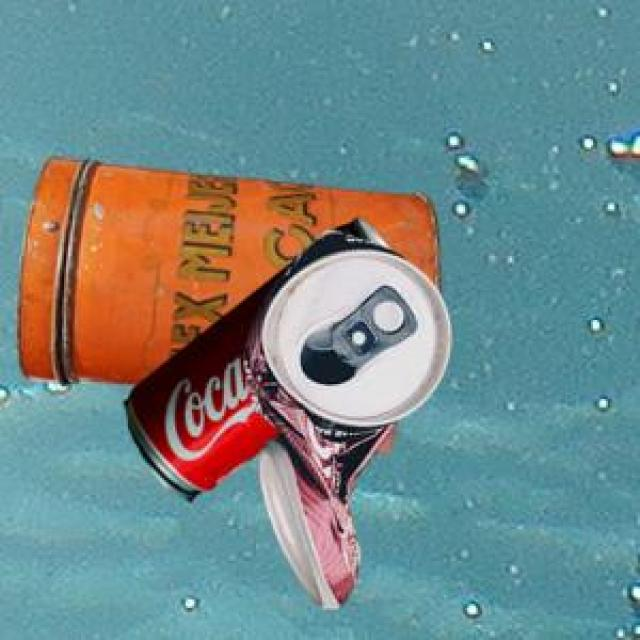logam: (14, 155, 438, 383), (242, 227, 447, 607), (121, 214, 386, 498)
